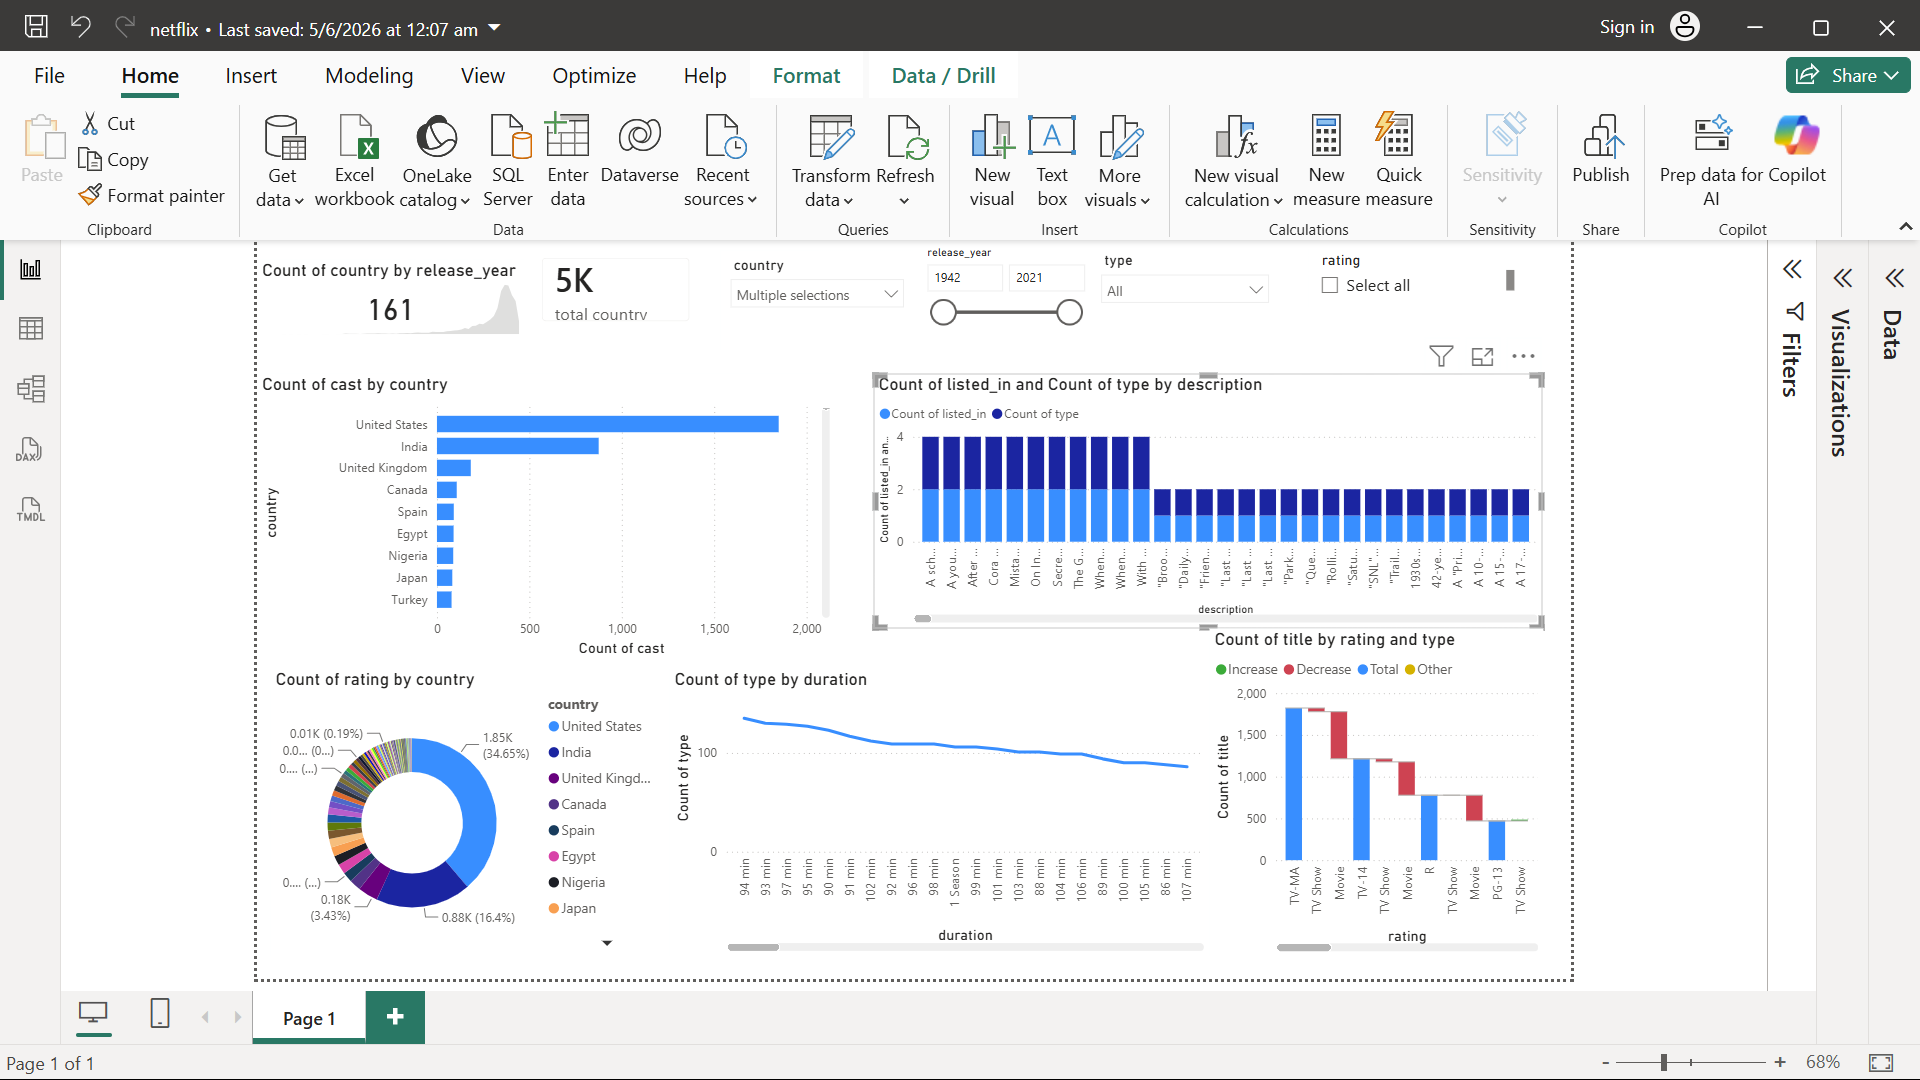

This screenshot's page, from the dashboard's own definition file:
{"tool":"powerbi","page":{"name":"Page 1","canvas":[1280,720],"ordinal":0},"visuals":[{"type":"barChart","fields":{"Category":["netflix_titles.country"],"Y":["CountNonNull(netflix_titles.cast)"]},"box":[0,130.4,563.2,279.7],"z":0},{"type":"lineStackedColumnComboChart","fields":{"Category":["netflix_titles.description"],"Y":["CountNonNull(netflix_titles.listed_in)","CountNonNull(netflix_titles.type)"]},"box":[600.9,130.4,652,247.6],"z":1000},{"type":"donutChart","fields":{"Category":["netflix_titles.country"],"Y":["CountNonNull(netflix_titles.rating)"]},"box":[13.2,417.6,389.3,279.7],"z":2000},{"type":"lineChart","fields":{"Category":["netflix_titles.duration"],"Y":["CountNonNull(netflix_titles.type)"]},"box":[402.5,417.6,525.4,279.7],"z":3000},{"type":"waterfallChart","fields":{"Category":["netflix_titles.rating"],"Breakdown":["netflix_titles.type"],"Y":["CountNonNull(netflix_titles.title)"]},"box":[927.9,378,325,319.4],"z":4000},{"type":"kpi","fields":{"Indicator":["CountNonNull(netflix_titles.country)"],"TrendLine":["netflix_titles.release_year"]},"box":[0,0,260.8,77.5],"z":5000},{"type":"cardVisual","fields":{"Data":["netflix_titles.total country"]},"box":[300.5,0,206,96.4],"z":6000},{"type":"slicer","fields":{"Values":["netflix_titles.country"]},"box":[451.7,0,189,96.4],"z":7000},{"type":"slicer","fields":{"Values":["netflix_titles.release_year"]},"box":[640.6,0,300.5,77.5],"z":8000},{"type":"slicer","fields":{"Values":["netflix_titles.type"]},"box":[812.6,5.7,183.3,64.3],"z":9000},{"type":"slicer","fields":{"Values":["netflix_titles.rating"]},"box":[978.9,0,300.5,69.9],"z":10000}]}

Visuals, with their boxes on the page's 1280x720 design canvas (x1, y1, x2, y2). These are canvas units, not pixel positions in the 1920x1080 screenshot, which may show the page scaled, cropped or inside an application window:
barChart - netflix_titles.country x CountNonNull(netflix_titles.cast): locate(0, 130, 563, 410)
lineStackedColumnComboChart - netflix_titles.description x CountNonNull(netflix_titles.listed_in): locate(601, 130, 1253, 378)
donutChart - netflix_titles.country x CountNonNull(netflix_titles.rating): locate(13, 418, 402, 697)
lineChart - netflix_titles.duration x CountNonNull(netflix_titles.type): locate(402, 418, 928, 697)
waterfallChart - netflix_titles.rating x netflix_titles.type: locate(928, 378, 1253, 697)
kpi - CountNonNull(netflix_titles.country) x netflix_titles.release_year: locate(0, 0, 261, 78)
cardVisual - netflix_titles.total country: locate(300, 0, 506, 96)
slicer - netflix_titles.country: locate(452, 0, 641, 96)
slicer - netflix_titles.release_year: locate(641, 0, 941, 78)
slicer - netflix_titles.type: locate(813, 6, 996, 70)
slicer - netflix_titles.rating: locate(979, 0, 1279, 70)
